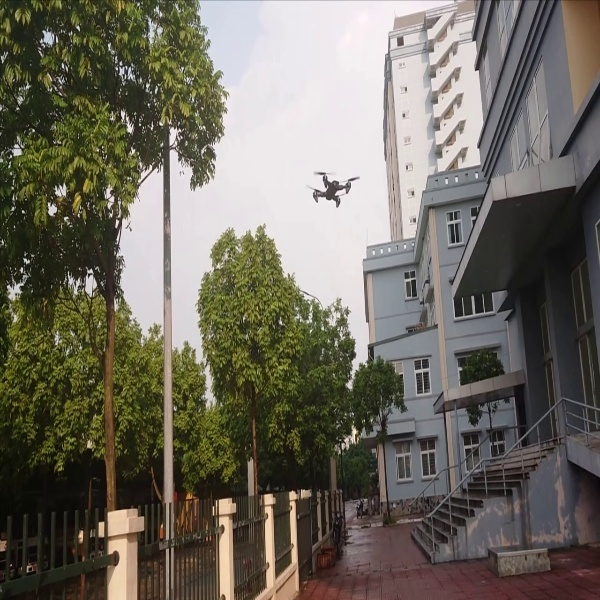drone: (304, 167, 362, 214)
